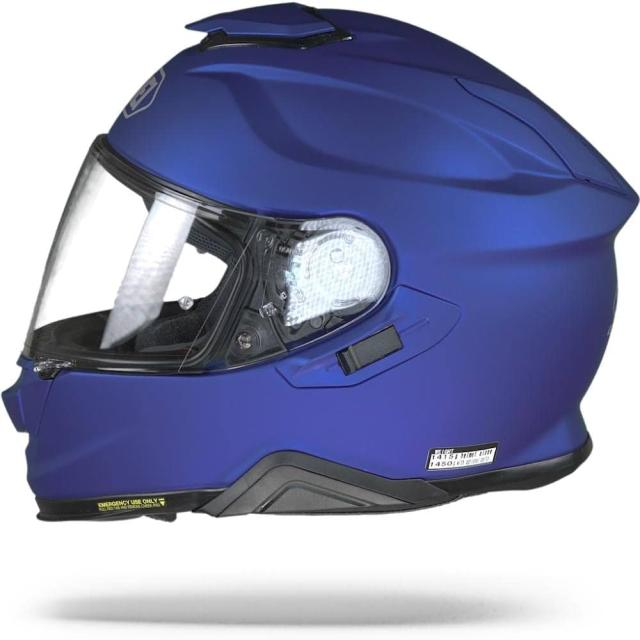Helmet: (0, 0, 640, 536)
